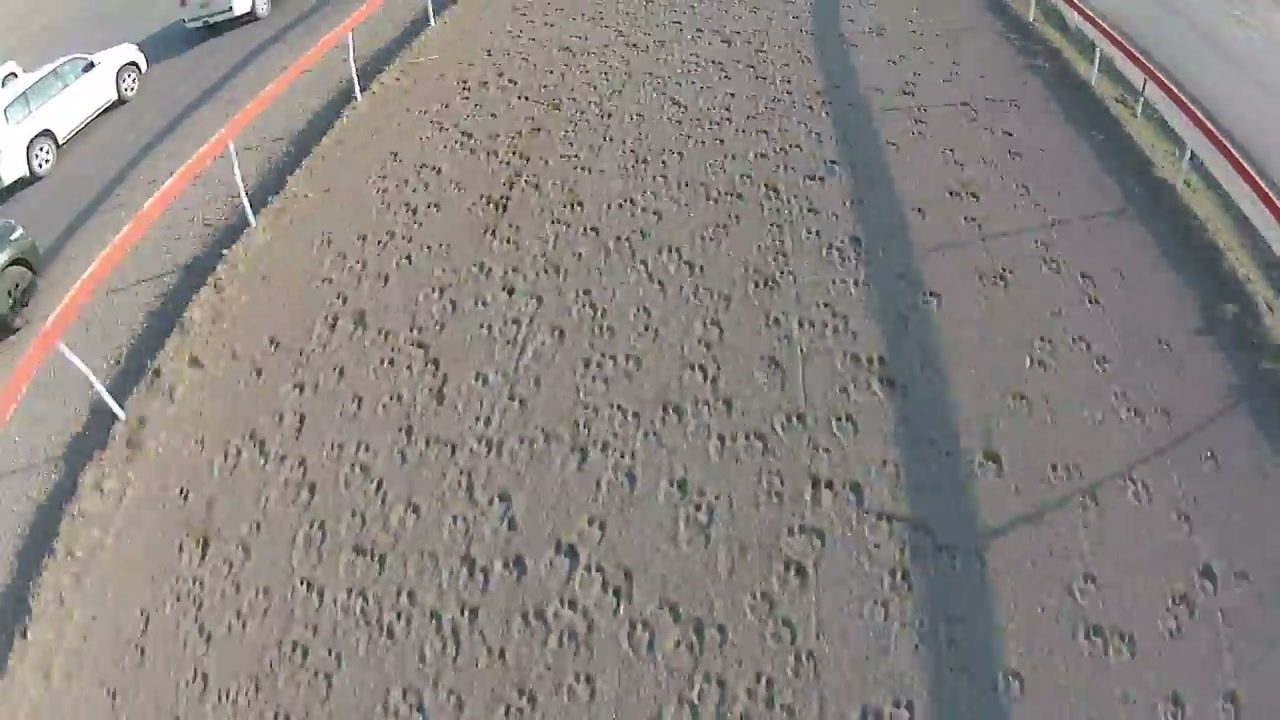animal_footprint: (317, 38, 966, 719), (888, 16, 1226, 706)
